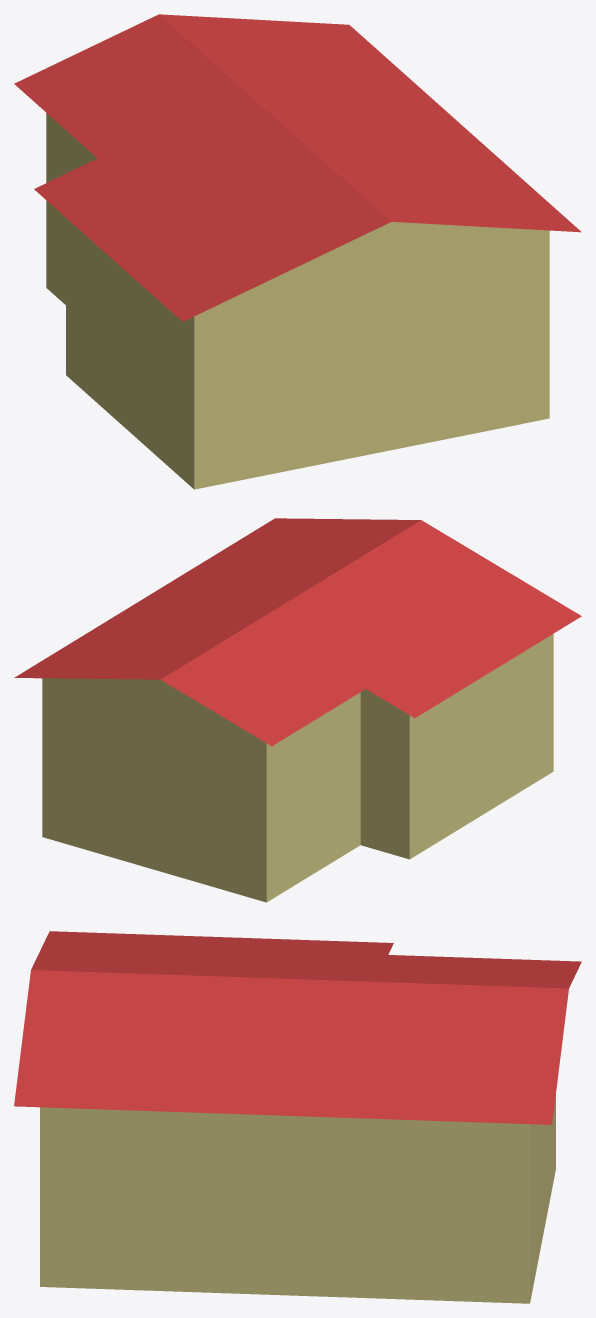
3 views of the same model, one above another, from view 1: azimuth 30°, elevation 25°; view 2: azimuth 150°, elevation 25°; view 3: azimuth 270°, elevation 25° (orthographic). The views are drawn at different scales.
Bounding box in the file's own units: 15 × 17.7 × 8.18.
